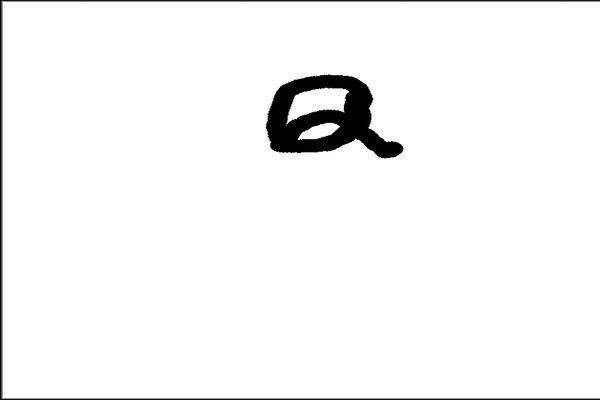Q: (260, 72, 408, 163)
